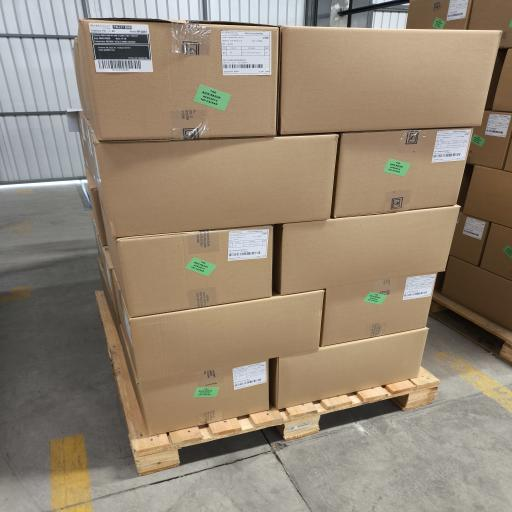pallet: (96, 292, 439, 475), (430, 290, 511, 364)
